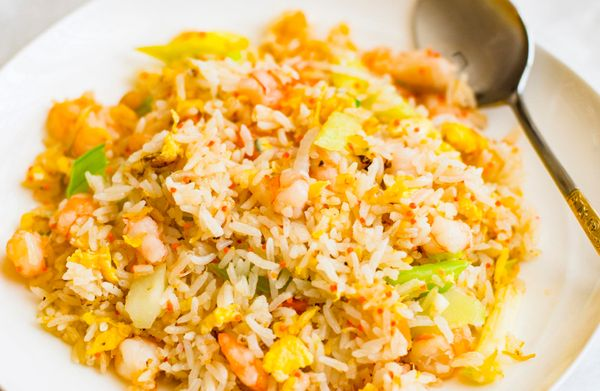salad: (410, 1, 600, 264)
sushi: (2, 8, 550, 386)
